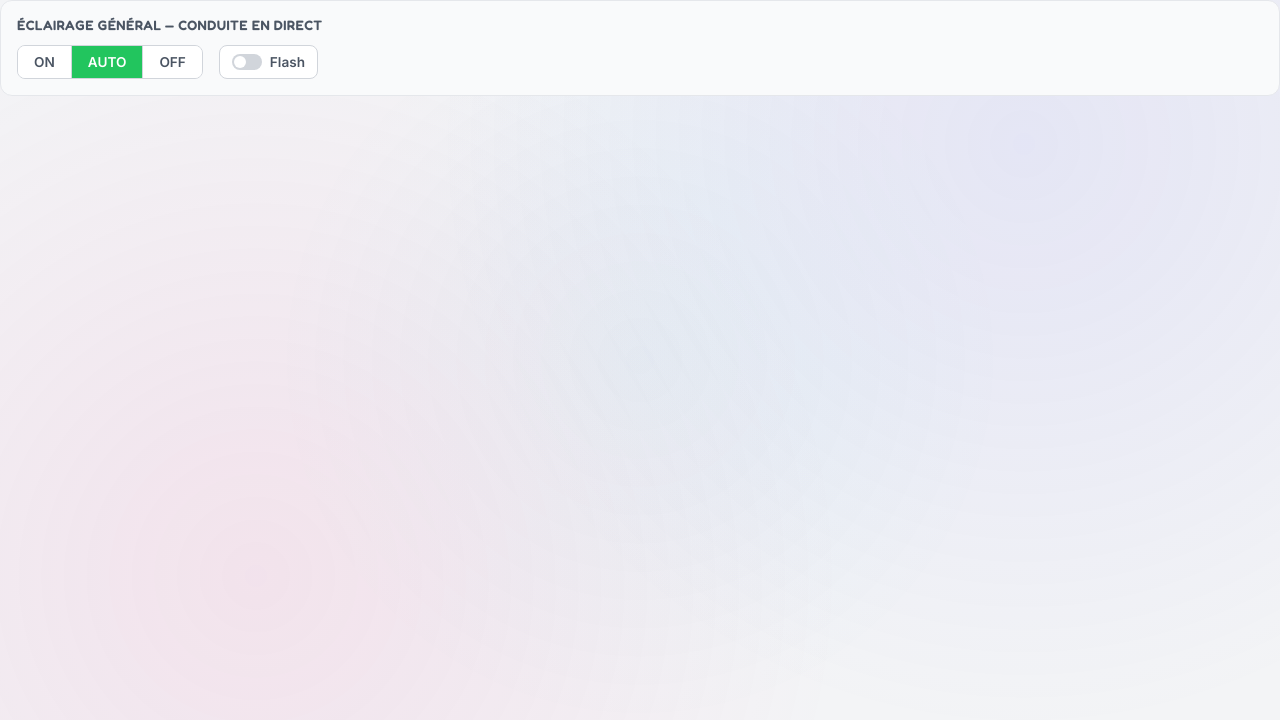
Test: LightingModePanel › une erreur serveur sur /api/lighting/mode affiche un toast, sans faire bouger le sélecteur
The image size is (1280, 720).
Expected: the radio button labelled "AUTO" is shown, [72,46,143,78]
Click the radio button labelled "OFF" at x=173, y=62, box [143,46,202,78]
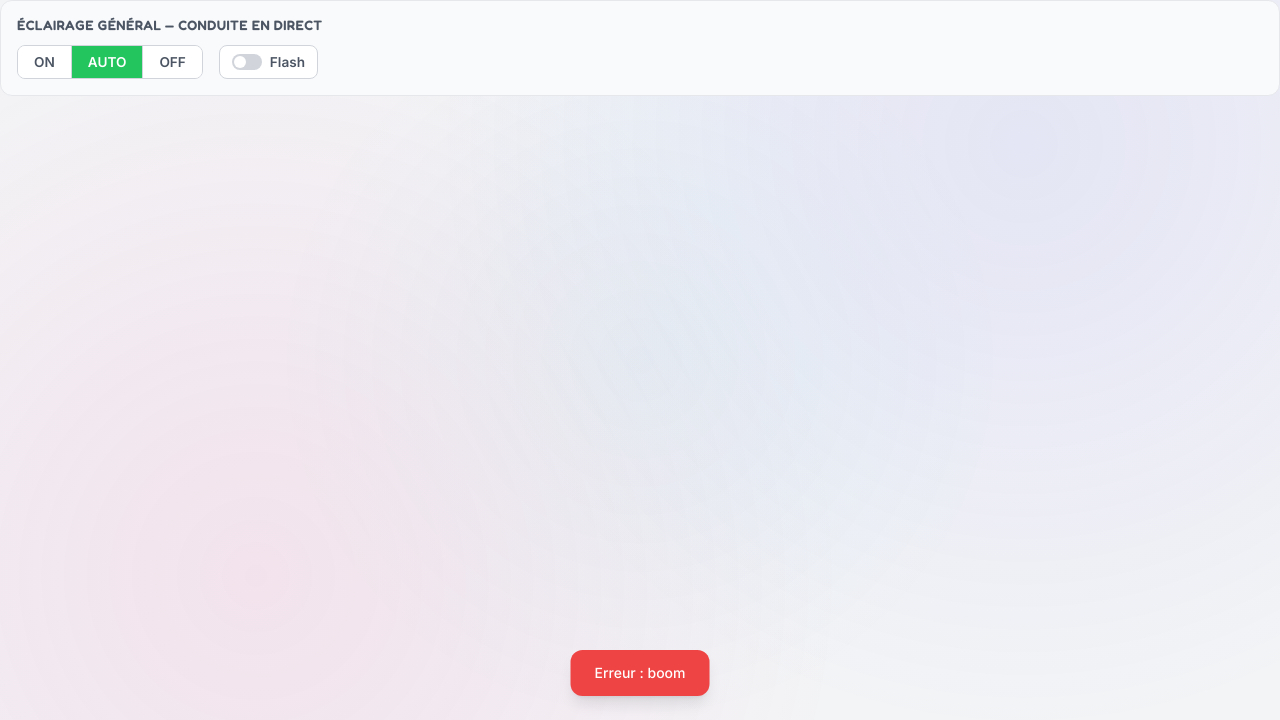
Result: the text "Erreur : boom" is shown at [570,650,710,696]
